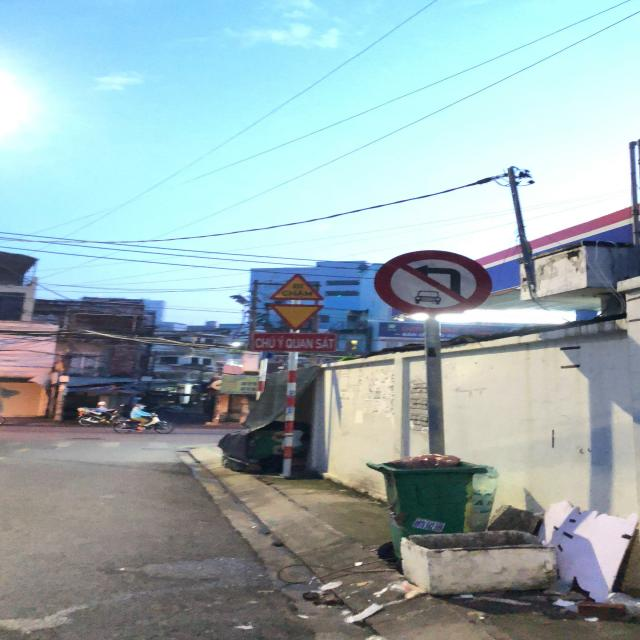Bien bao cam xe o to re trai: (370, 247, 502, 317)
Bien bao di cham: (268, 270, 329, 301)
Bien bao giao nhau voi duong uu tien: (264, 303, 345, 330)
